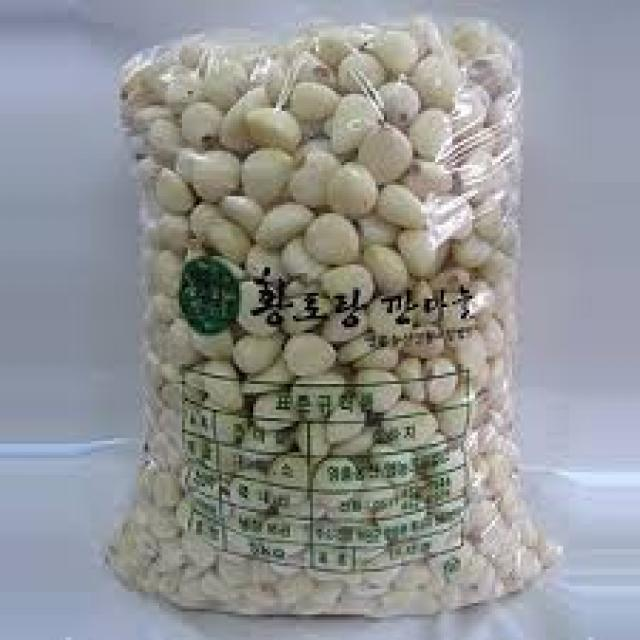Garlic bulb: (242, 114, 415, 267), (176, 96, 336, 245)
